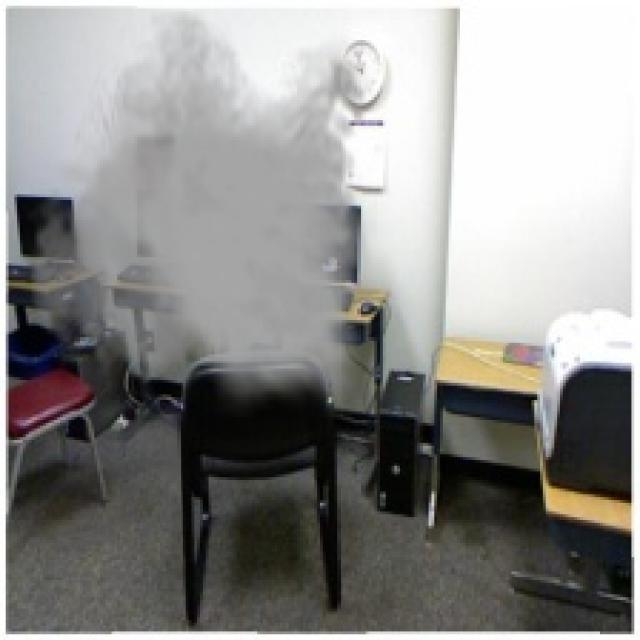Smoke: (26, 12, 377, 417)
